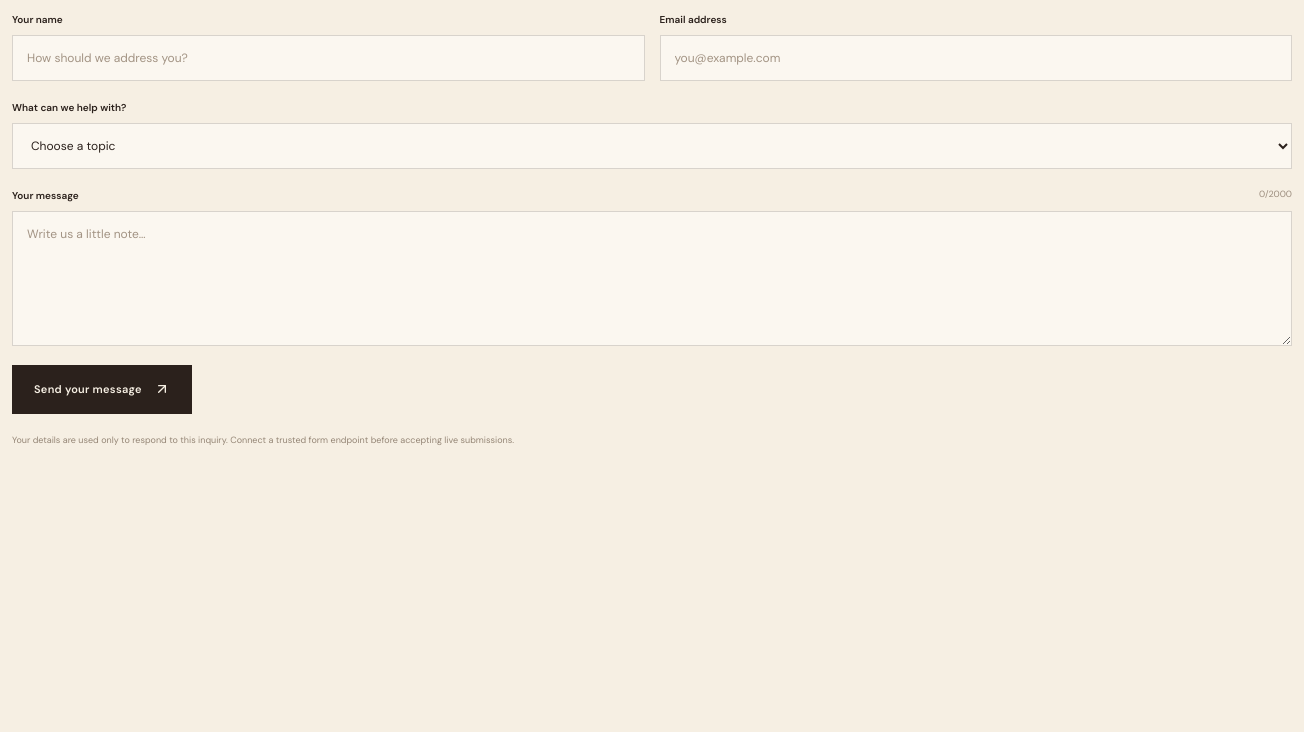
Test case: contact form › shows success only after the configured endpoint responds successfully
In the field labelled "Your name": (328, 58) [12,35,644,81], type "Sam"
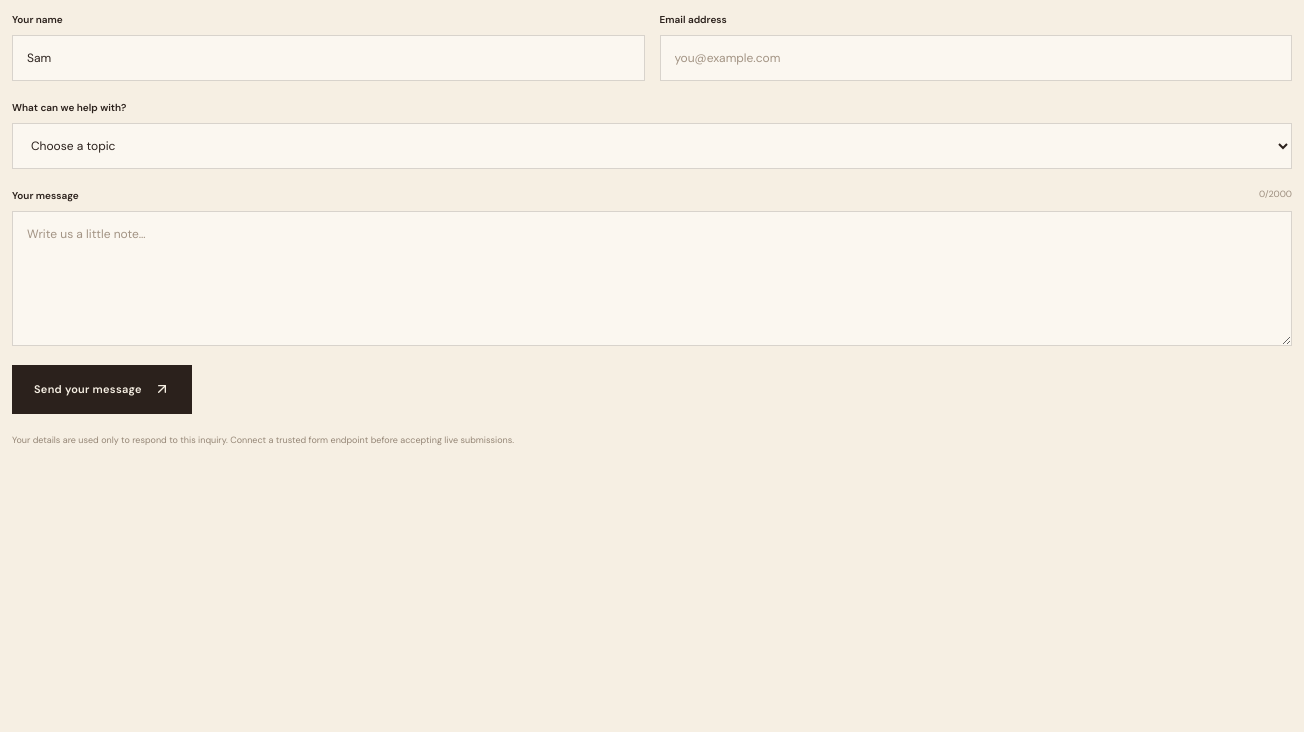
In the field labelled "Email address": (976, 58) [660,35,1292,81], type "sam@example.com"
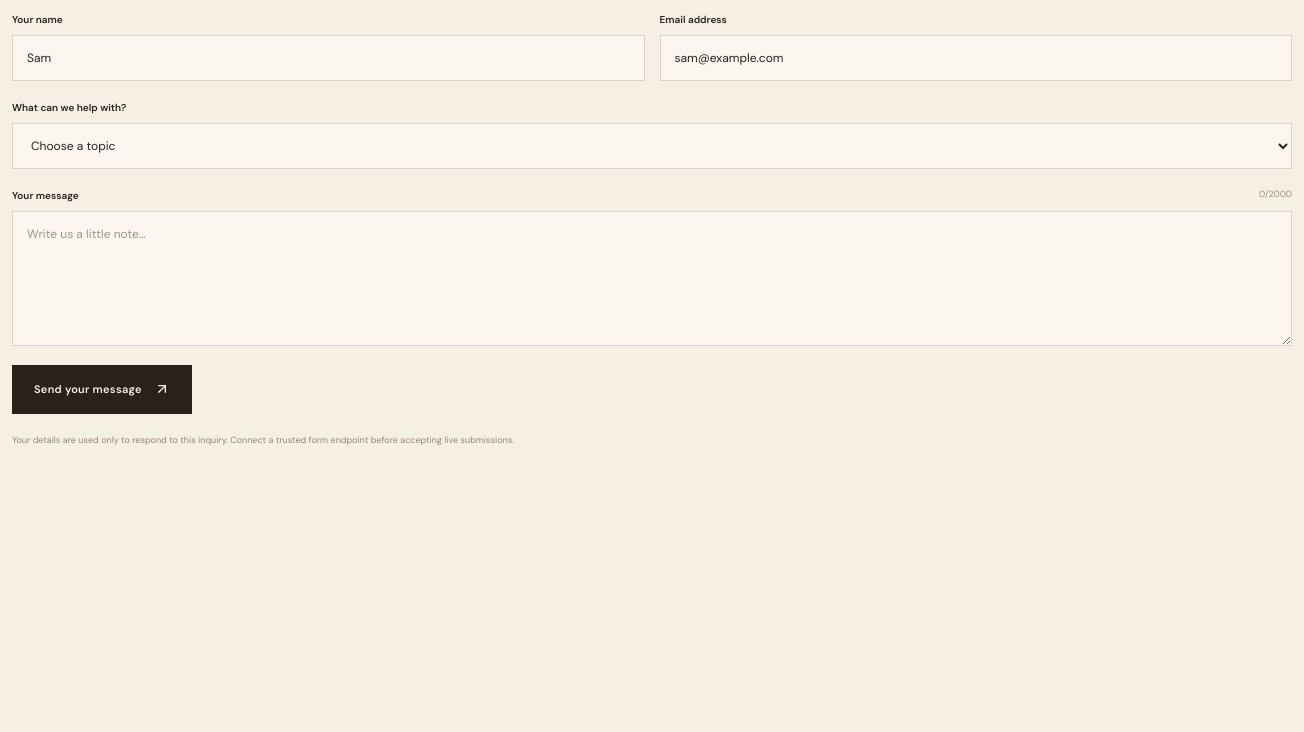
Select "Menu question" in the dropdown labelled "What can we help with?": (652, 146) [12,123,1292,169]
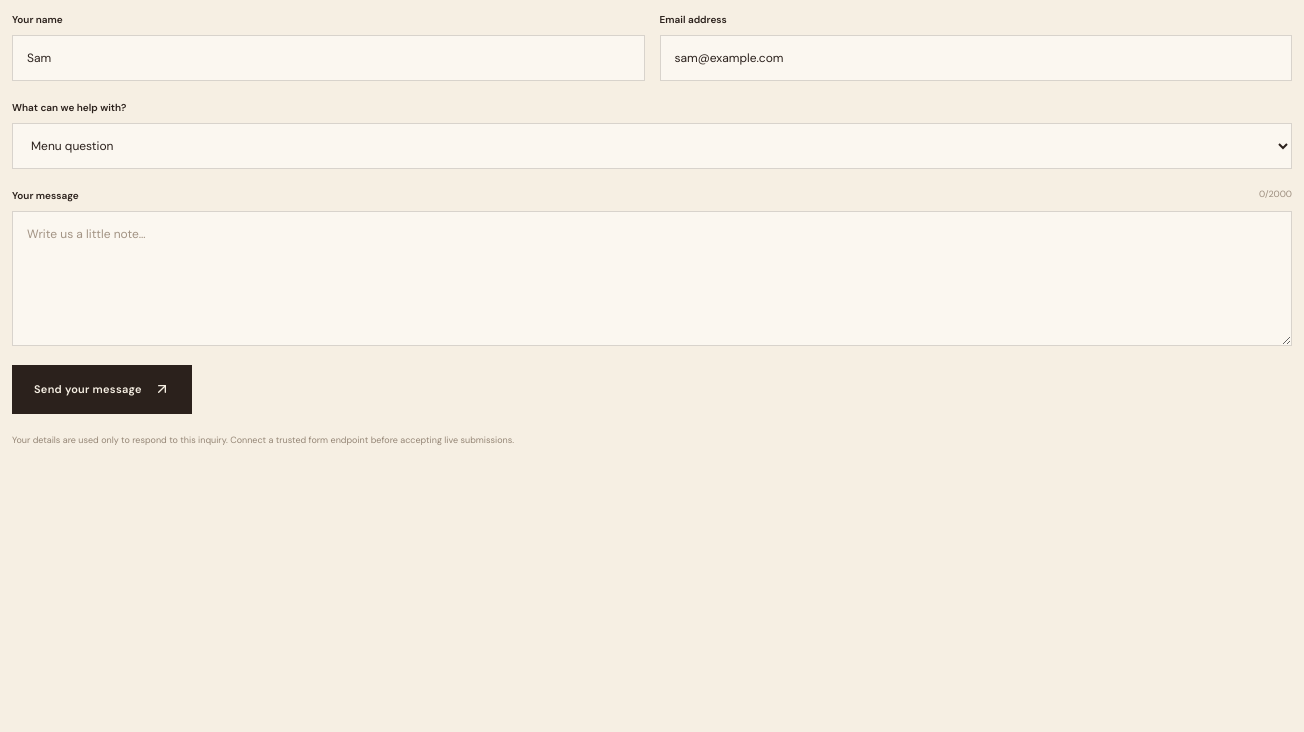
In the text box labelled "Your message": (652, 278) [12,211,1292,346], type "Can you tell me about your coffee menu?"
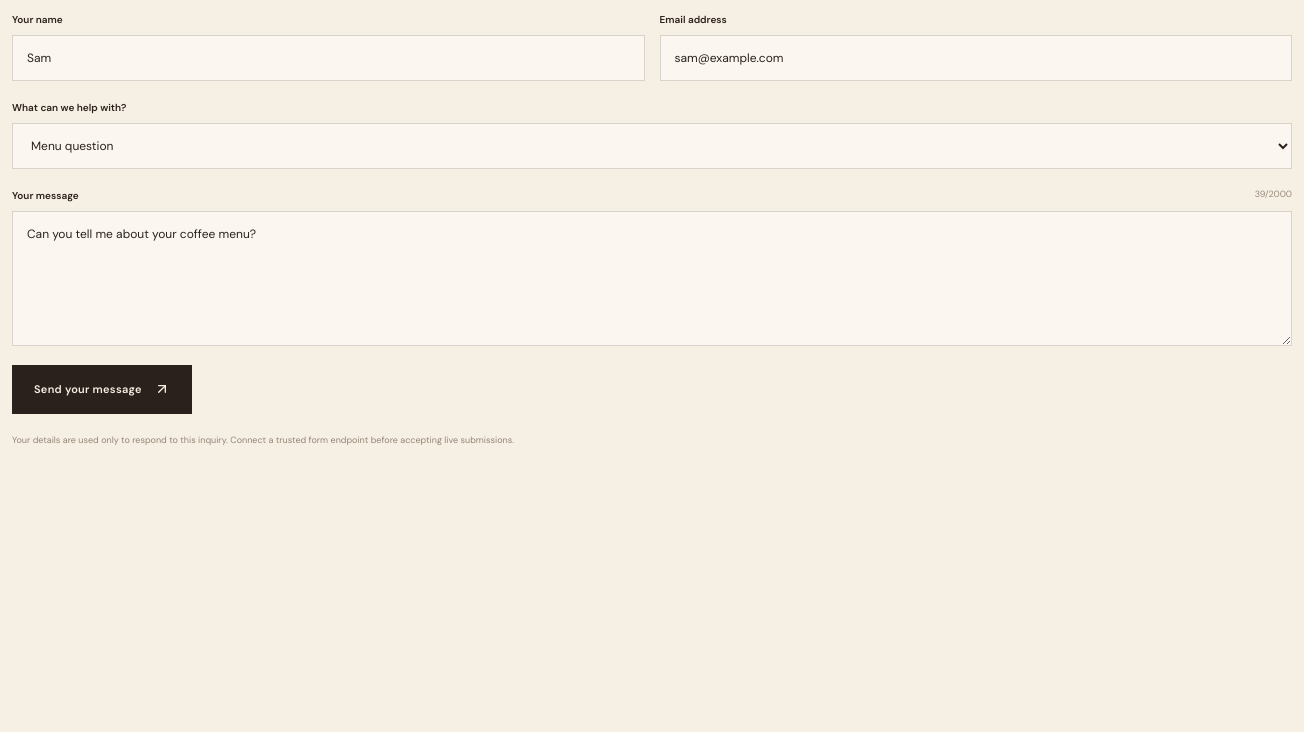
Click the button "Send your message": (102, 389) [12,365,192,414]
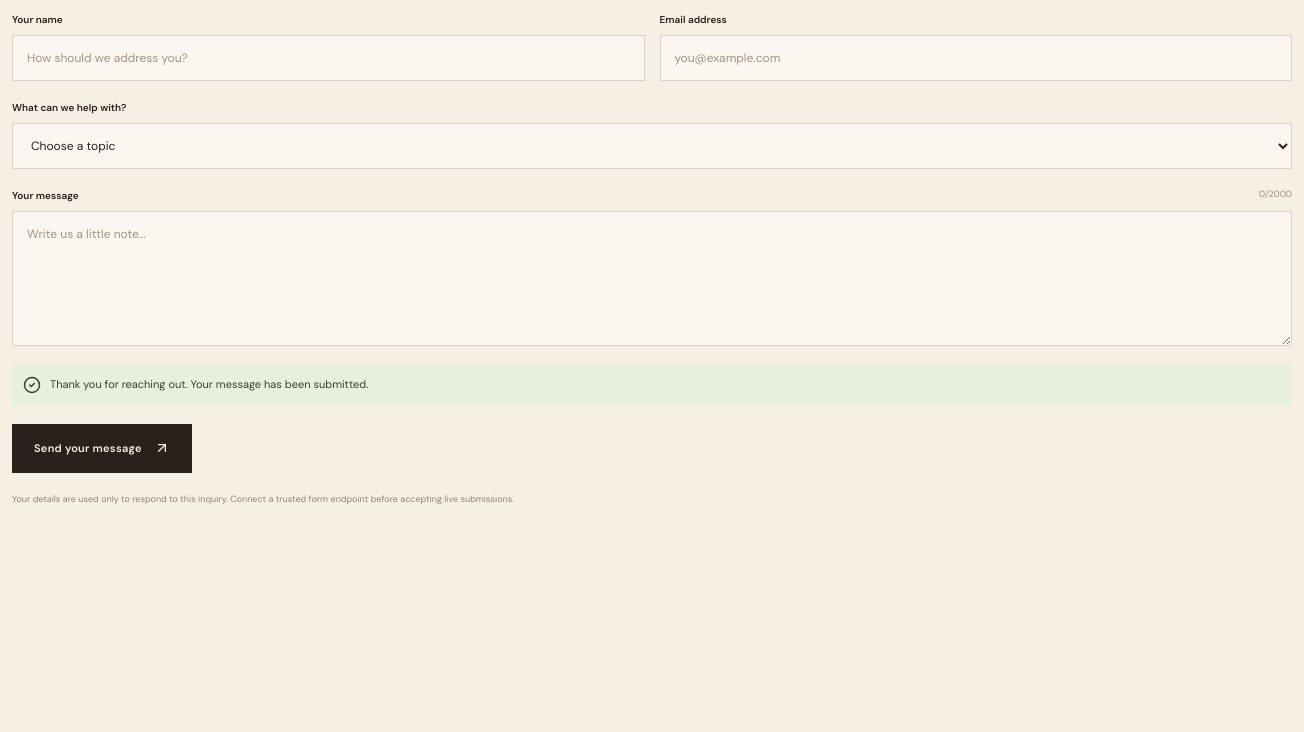
Now the message shows "has been submitted", box [50,377,368,391]
